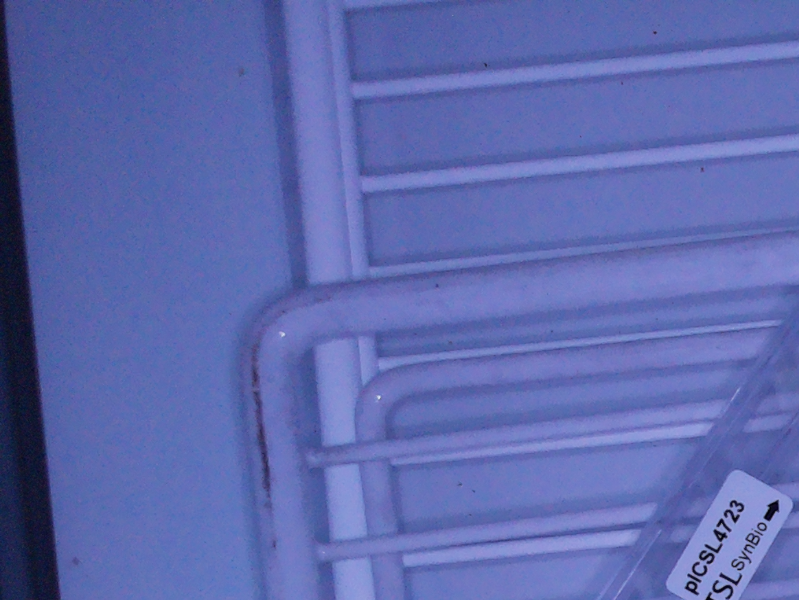plate: (601, 304, 797, 600)
